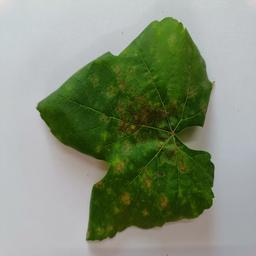Powdery-Mildew: (118, 187, 135, 204)
